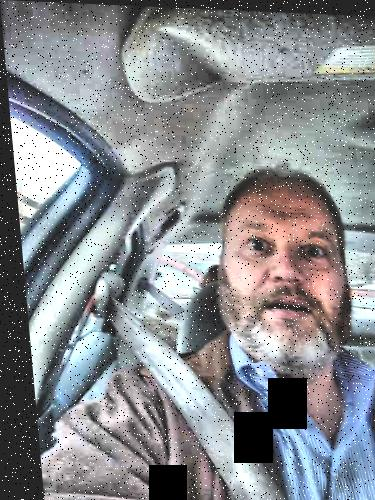seatbelt: (65, 283, 253, 500), (127, 264, 184, 325)
